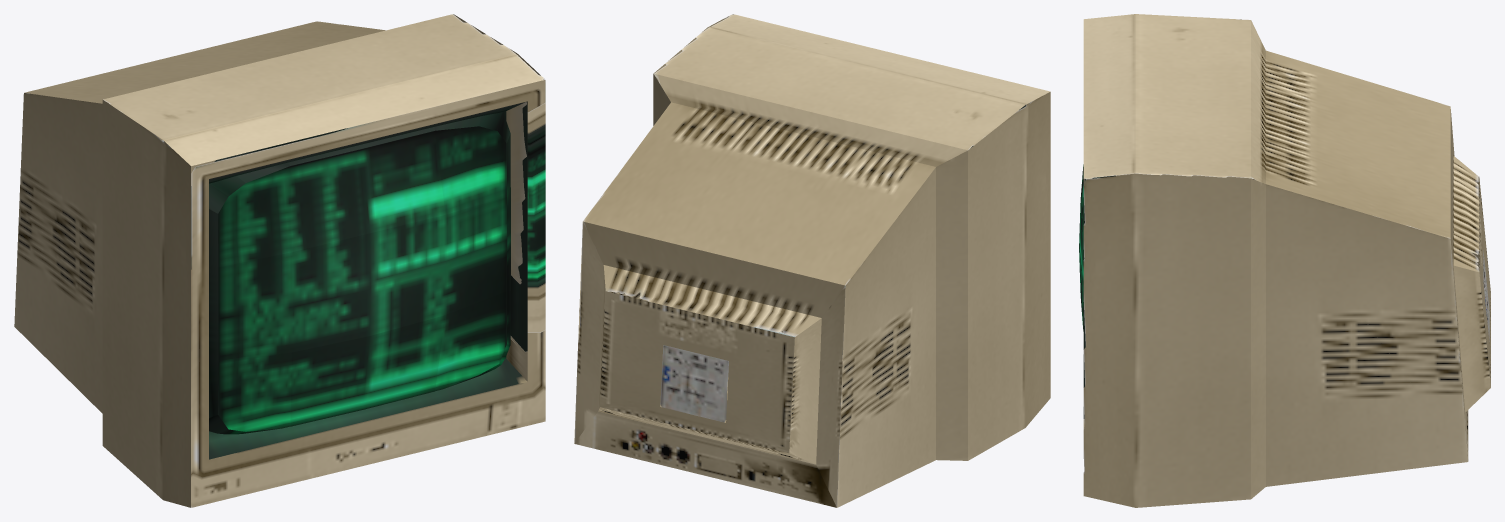
The model's file is MESH_MONITOR.fbx.
3 renders of one model, left to right at view 1: azimuth 30°, elevation 25°; view 2: azimuth 150°, elevation 25°; view 3: azimuth 270°, elevation 25°, orthographic. The views are drawn at different scales.
Parts seen in each view (by area): view 1: MESH_MONITOR; view 2: MESH_MONITOR; view 3: MESH_MONITOR.
Boxes of the visible parts, x1,y1,x2,y2 form: MESH_MONITOR: [14, 14, 545, 507]; MESH_MONITOR: [574, 14, 1050, 507]; MESH_MONITOR: [1079, 14, 1490, 507].
Bounding box in the file's own units: 0.3571 × 0.3467 × 0.3879.
